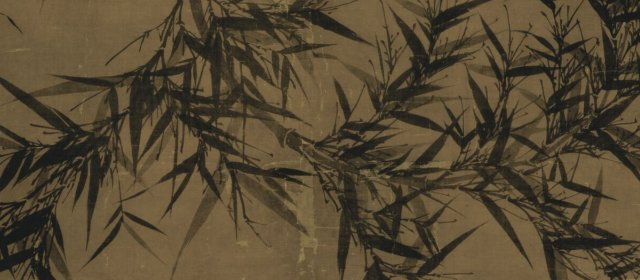bamboo: (1, 1, 640, 280)
